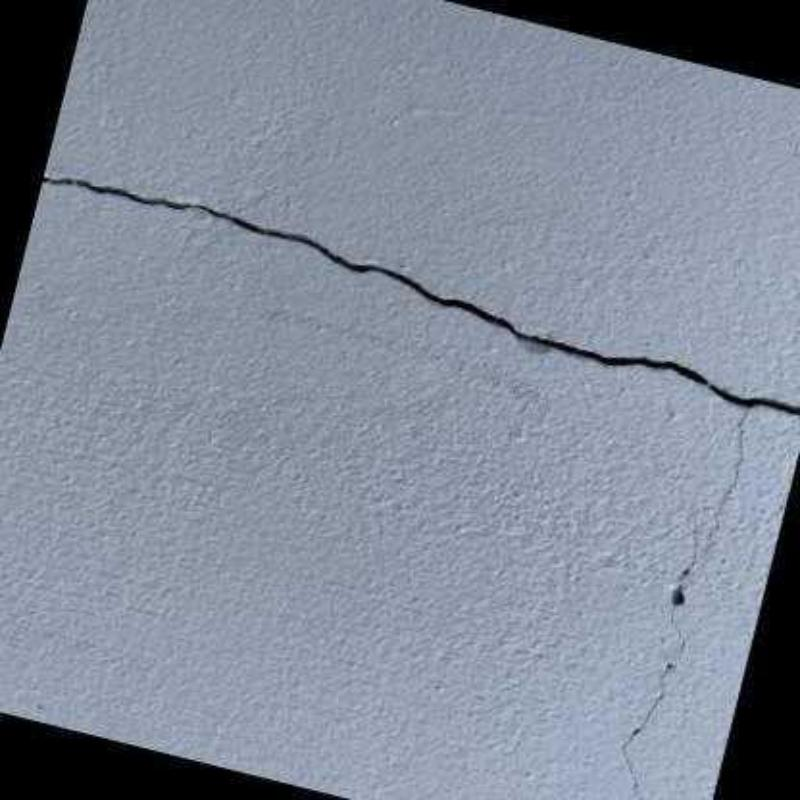crack: (42, 171, 798, 415), (619, 531, 698, 788), (715, 412, 750, 527)
